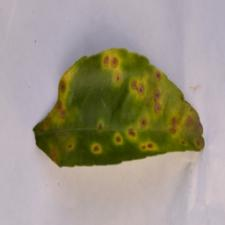Canker: (38, 54, 196, 185)
